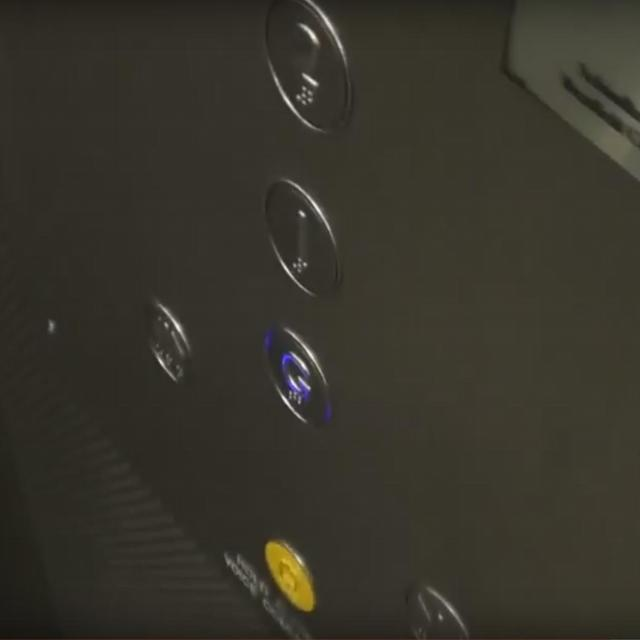1: (260, 171, 341, 302)
2: (257, 0, 355, 142)
G: (260, 321, 333, 433)
alarm: (263, 536, 316, 612)
open: (143, 294, 193, 390)
